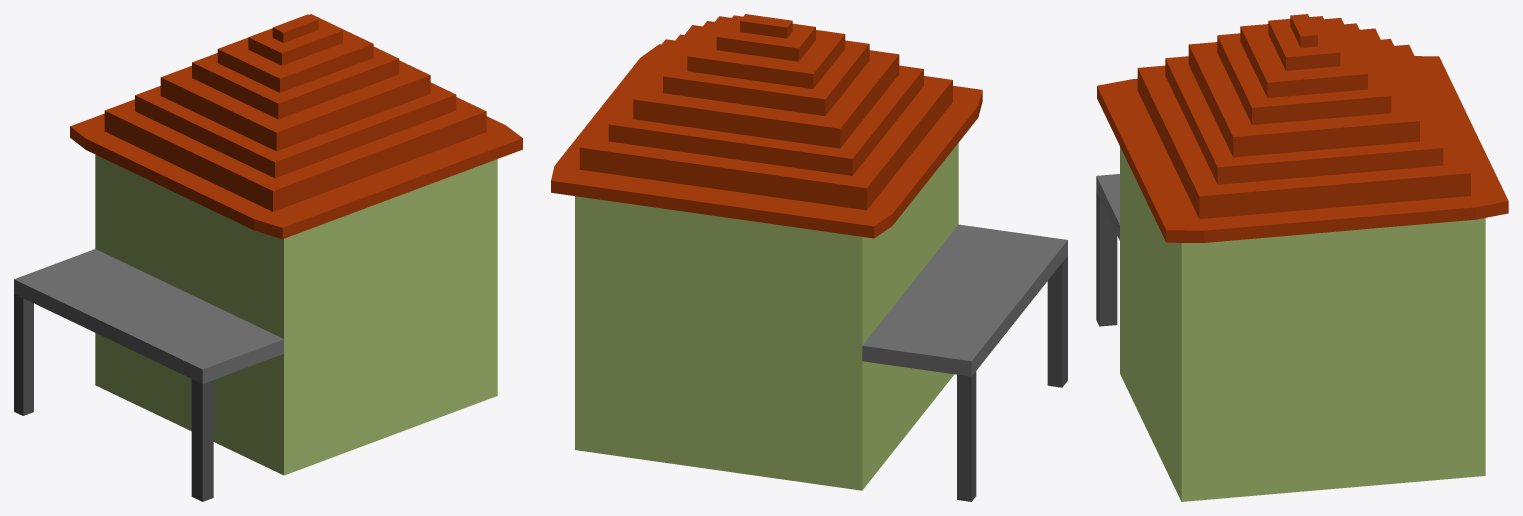
Rendered from sekolah sempak bola.fbx.
The picture shows the model from 3 angles, left to right: view 1: azimuth 30°, elevation 25°; view 2: azimuth 150°, elevation 25°; view 3: azimuth 270°, elevation 25°; orthographic projection. The views are drawn at different scales.
Visible parts, largest first — view 1: Cube.149; view 2: Cube.149; view 3: Cube.149.
Boxes of the visible parts, x1,y1,x2,y2 form: Cube.149: [14, 14, 522, 501]; Cube.149: [551, 14, 1067, 501]; Cube.149: [1096, 14, 1508, 501].
Size of the model in its own units: 3516 by 3066 by 2870.
